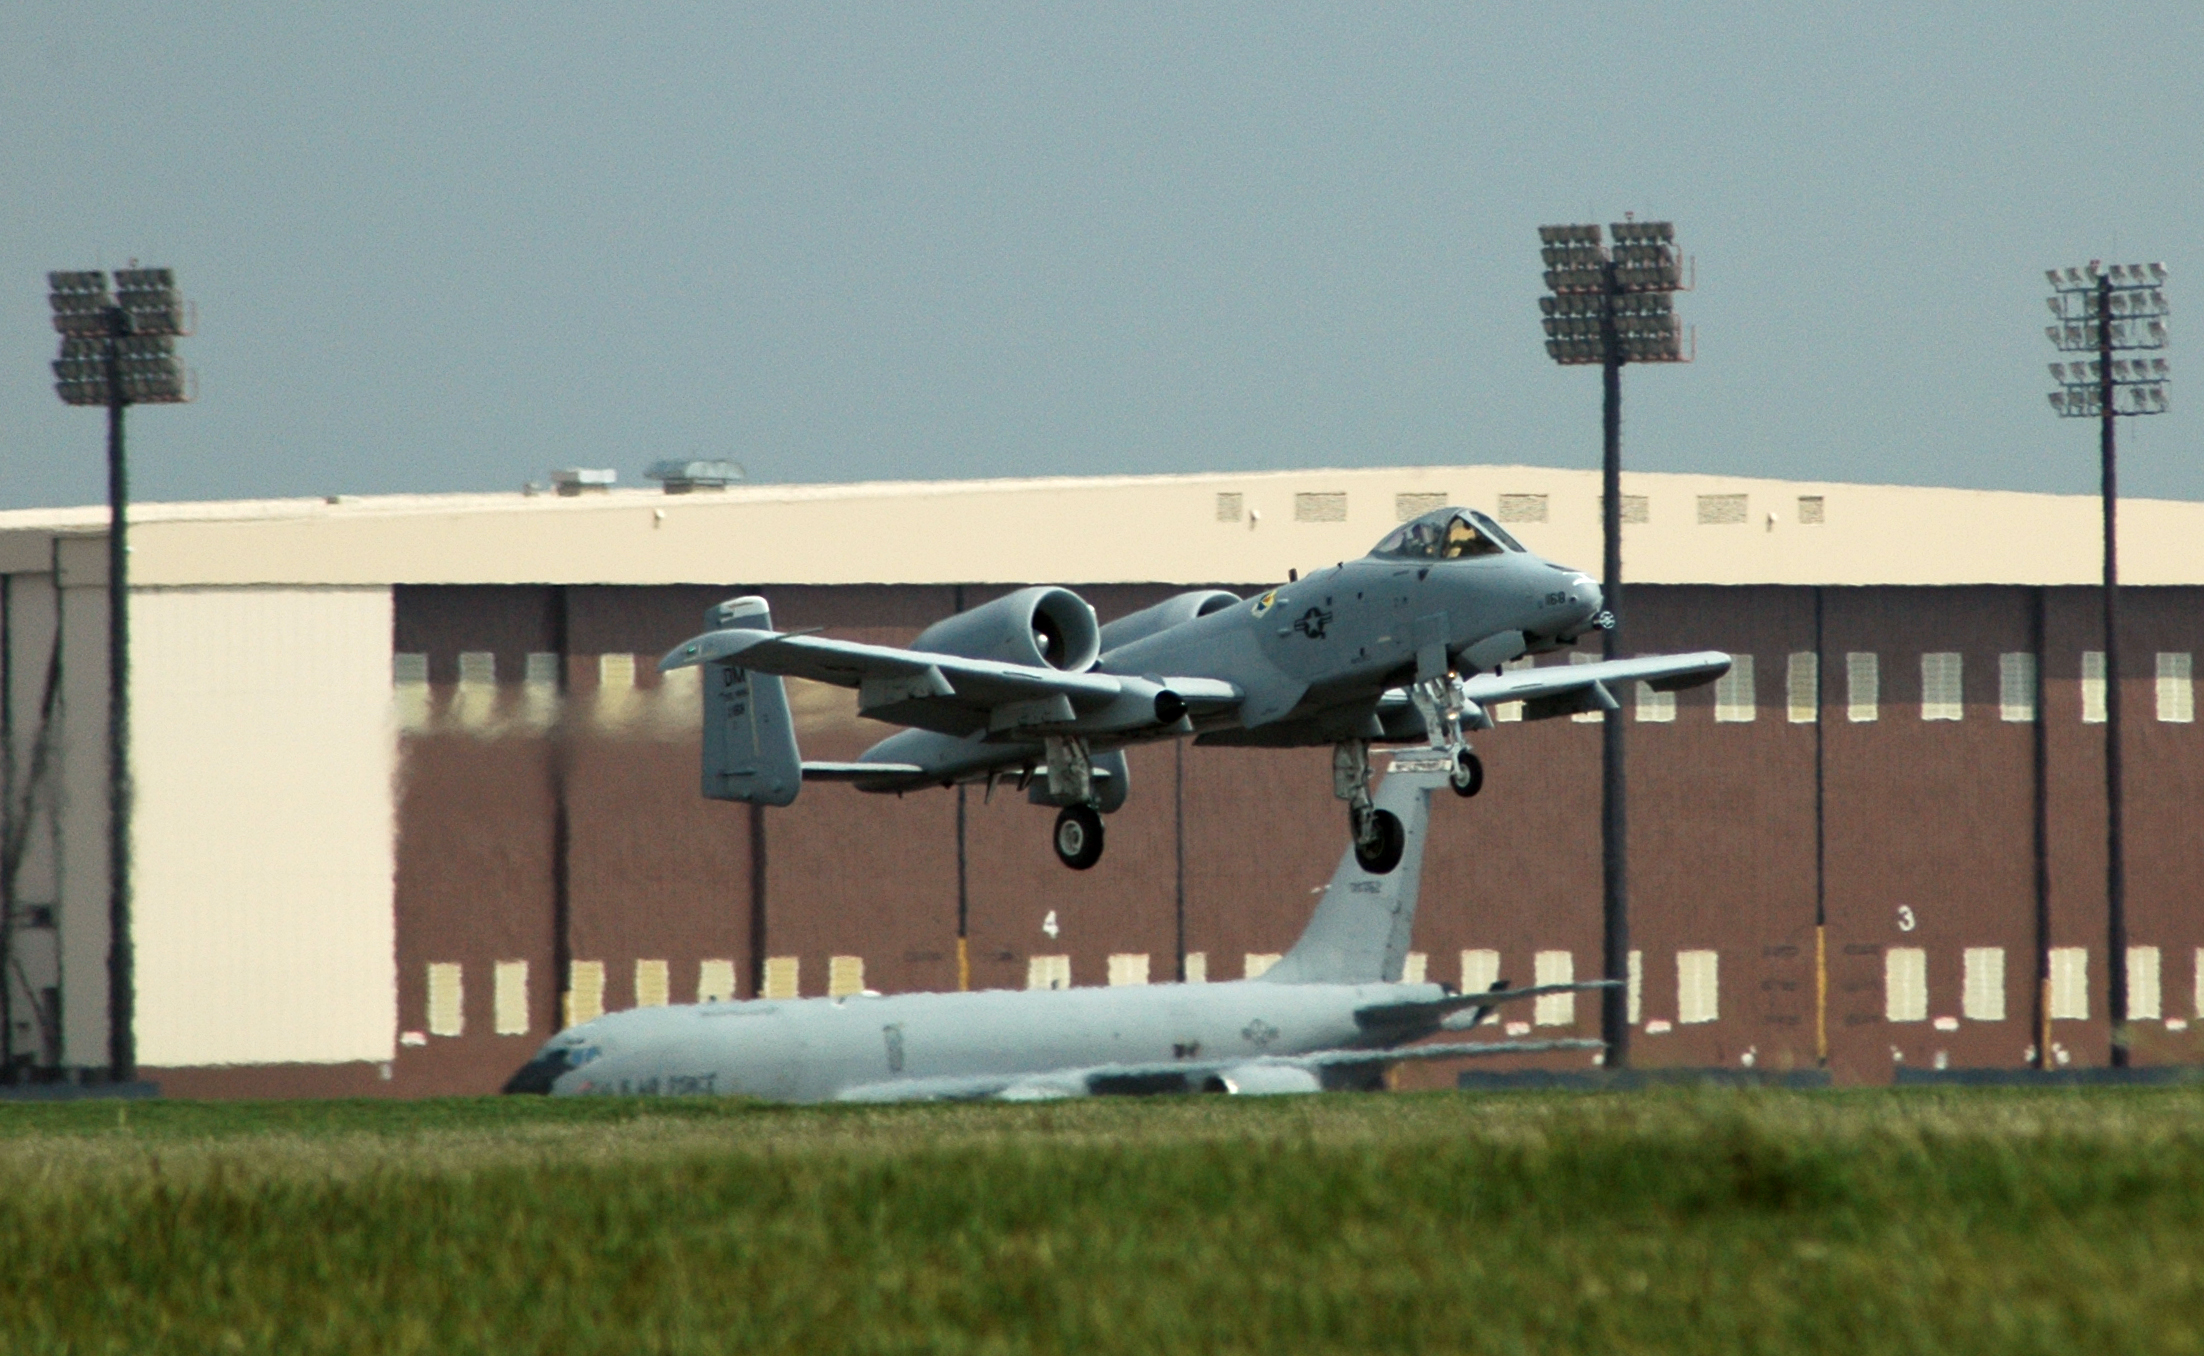airplane: (497, 743, 1631, 1101), (656, 506, 1732, 876)
